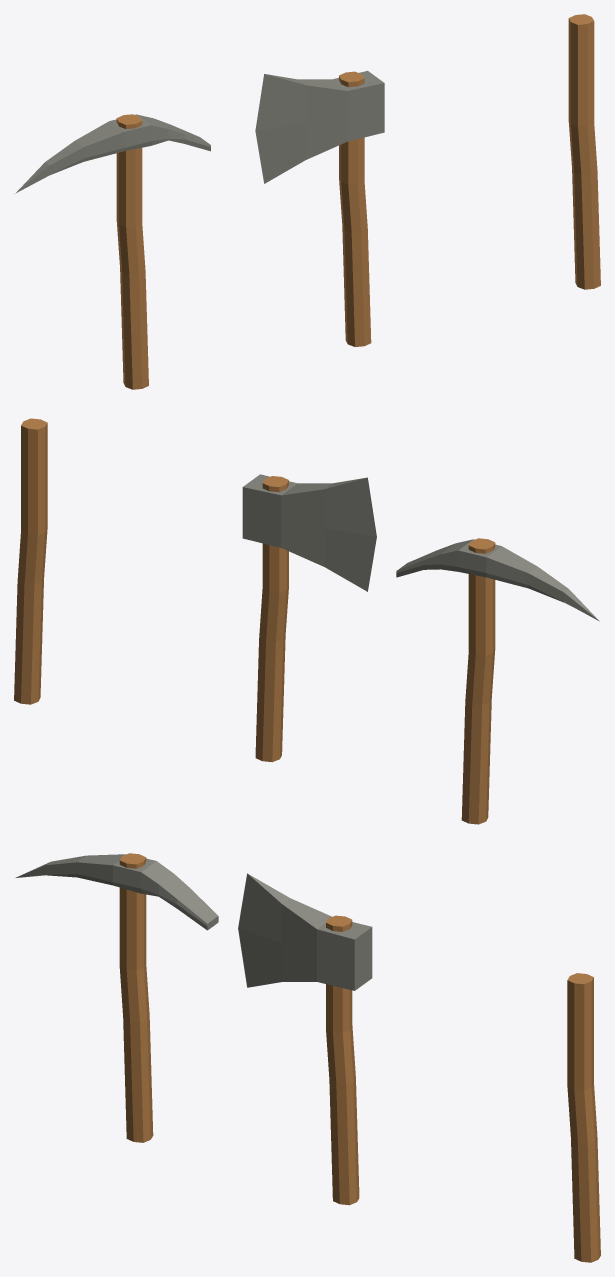
The model's file is Tools.fbx.
3 renders of one model, top to bottom at view 1: azimuth 30°, elevation 25°; view 2: azimuth 150°, elevation 25°; view 3: azimuth 330°, elevation 25°, orthographic. The views are drawn at different scales.
Visible parts, largest first — view 1: Axe, Pickaxe, Handle; view 2: Axe, Pickaxe, Handle; view 3: Axe, Pickaxe, Handle.
Part boxes in pixels (bbox=[...]): Axe: bbox=[255, 70, 384, 346]; Pickaxe: bbox=[15, 114, 210, 389]; Handle: bbox=[568, 14, 600, 289]; Axe: bbox=[242, 474, 376, 762]; Pickaxe: bbox=[396, 538, 599, 824]; Handle: bbox=[14, 418, 47, 704]; Axe: bbox=[238, 873, 372, 1205]; Pickaxe: bbox=[15, 853, 218, 1142]; Handle: bbox=[567, 973, 600, 1262].
Size of the model in its own units: 6.7 by 3.25 by 0.59.
